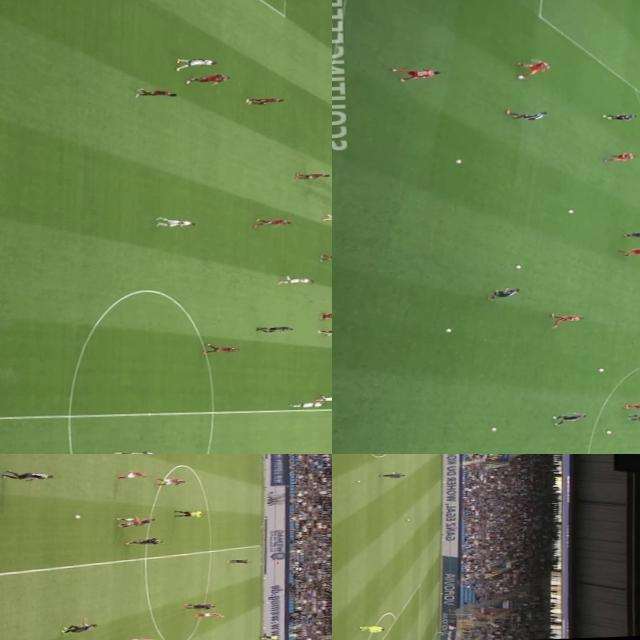ball: (70, 512, 84, 520), (455, 158, 463, 163), (514, 264, 522, 268), (604, 429, 610, 434), (446, 327, 452, 332), (598, 368, 604, 372), (566, 210, 572, 213), (356, 479, 362, 482), (489, 428, 496, 430), (518, 76, 525, 78), (404, 518, 410, 520)
player: (390, 66, 440, 82), (182, 72, 232, 86), (4, 468, 54, 482), (134, 86, 181, 100), (503, 106, 548, 120), (172, 57, 218, 69), (550, 312, 586, 326), (157, 216, 195, 229), (520, 61, 554, 74), (56, 624, 98, 634), (488, 288, 520, 300), (295, 170, 332, 180), (550, 414, 586, 424), (242, 96, 286, 104), (254, 218, 292, 227), (203, 344, 237, 354), (116, 470, 150, 480), (600, 111, 636, 120), (183, 601, 217, 610), (123, 537, 161, 545), (110, 448, 160, 454), (290, 400, 326, 408), (603, 153, 635, 162), (282, 276, 316, 284), (124, 518, 158, 526), (116, 516, 142, 526), (195, 612, 225, 620), (155, 478, 185, 485), (358, 624, 383, 632), (378, 472, 404, 478), (621, 248, 640, 256), (227, 558, 252, 564), (622, 230, 640, 238), (317, 393, 332, 402), (320, 212, 332, 223), (318, 253, 332, 262), (625, 413, 640, 421), (625, 402, 640, 410), (119, 637, 157, 640), (320, 311, 332, 320), (317, 327, 332, 334)
